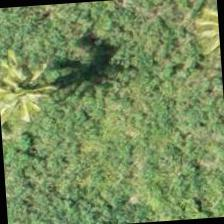Kelapa_Sawit: (0, 38, 66, 133)
